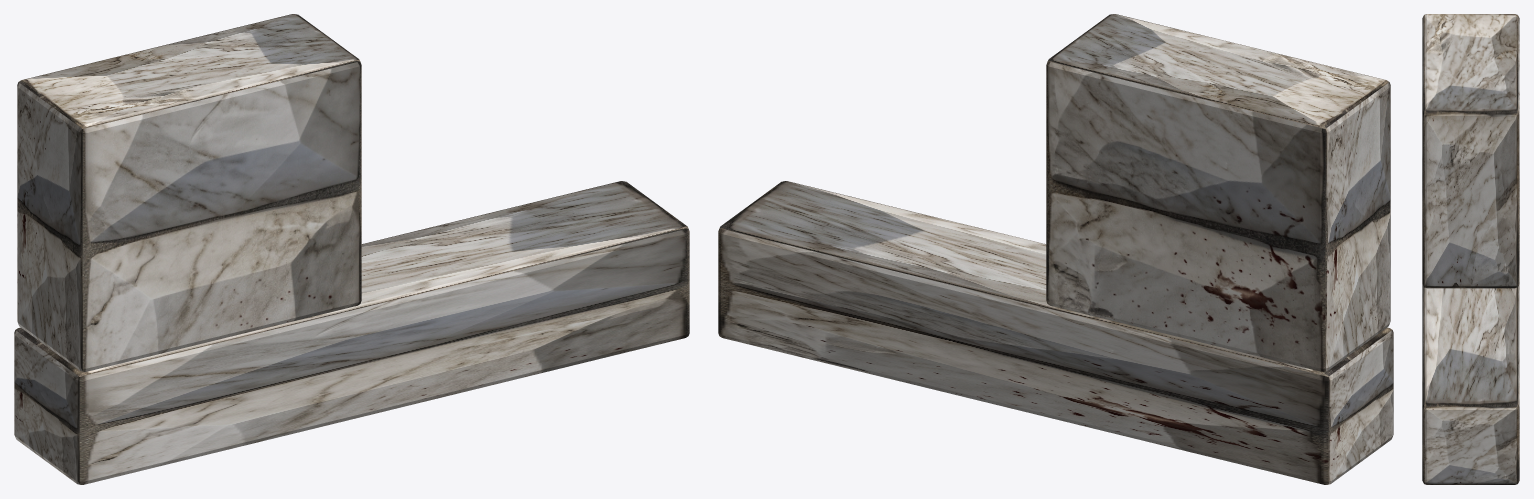
Rendered from balustrade_vault_broken_LOD2.glb.
3 views of the same model, side by side, from view 1: azimuth 30°, elevation 25°; view 2: azimuth 150°, elevation 25°; view 3: azimuth 270°, elevation 25° (orthographic). The views are drawn at different scales.
Parts seen in each view (by area): view 1: LOD2_LeftStanding, LOD2_LowPlinth; view 2: LOD2_LeftStanding, LOD2_LowPlinth; view 3: LOD2_LeftStanding, LOD2_LowPlinth.
Part boxes in pixels (bbox=[...]): LOD2_LeftStanding: bbox=[17, 14, 361, 371]; LOD2_LowPlinth: bbox=[14, 181, 689, 484]; LOD2_LeftStanding: bbox=[1046, 14, 1390, 371]; LOD2_LowPlinth: bbox=[718, 181, 1393, 484]; LOD2_LeftStanding: bbox=[1422, 14, 1519, 288]; LOD2_LowPlinth: bbox=[1422, 284, 1519, 484].
Size of the model in its own units: 2 by 1.12 by 0.38.
Materials: 1 (1 with a texture image).
